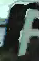Parking: (19, 6, 38, 56)
